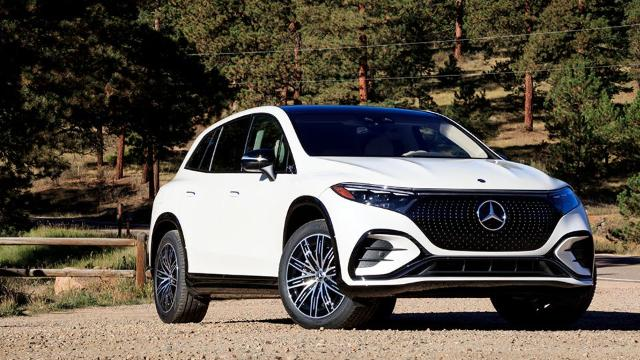benz: (148, 104, 598, 330)
